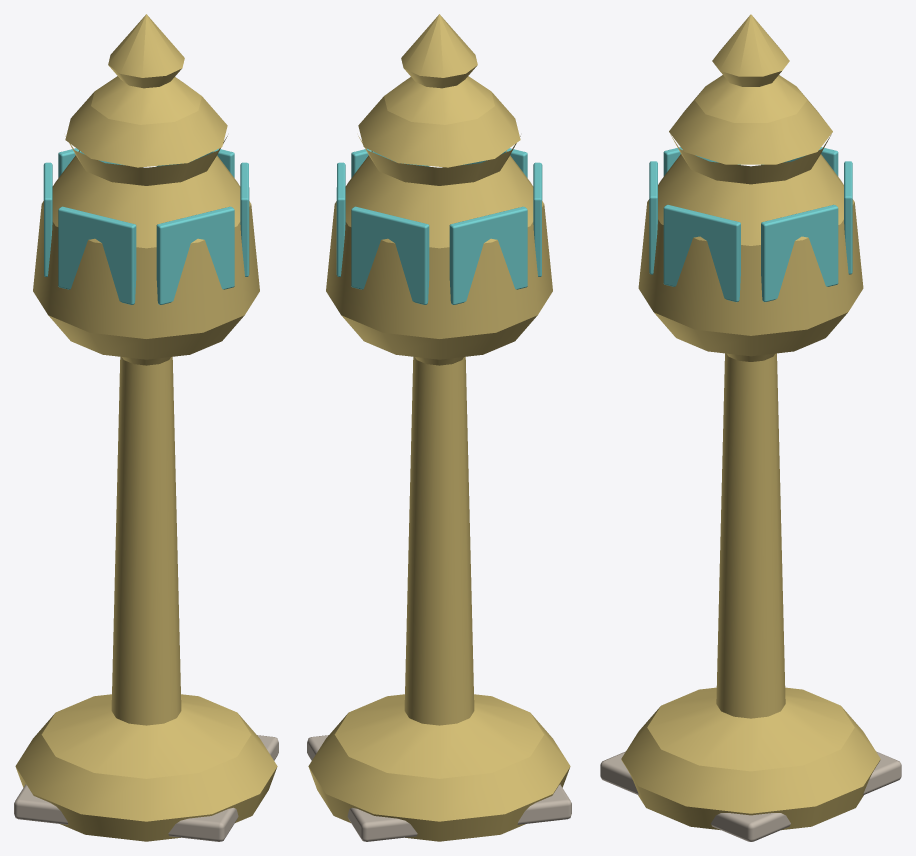
Rendered from standing-lamp-628d08e8.glb.
The picture shows the model from 3 angles, left to right: view 1: azimuth 30°, elevation 25°; view 2: azimuth 150°, elevation 25°; view 3: azimuth 270°, elevation 25°; orthographic projection.
Parts seen in each view (by area): view 1: standing-lamp; view 2: standing-lamp; view 3: standing-lamp.
Part boxes in pixels (x1,y1,x2,y2): standing-lamp: [14, 14, 278, 841]; standing-lamp: [307, 14, 571, 841]; standing-lamp: [600, 14, 901, 841].
Size of the model in its own units: 0.6972 by 1.96 by 0.6972.
